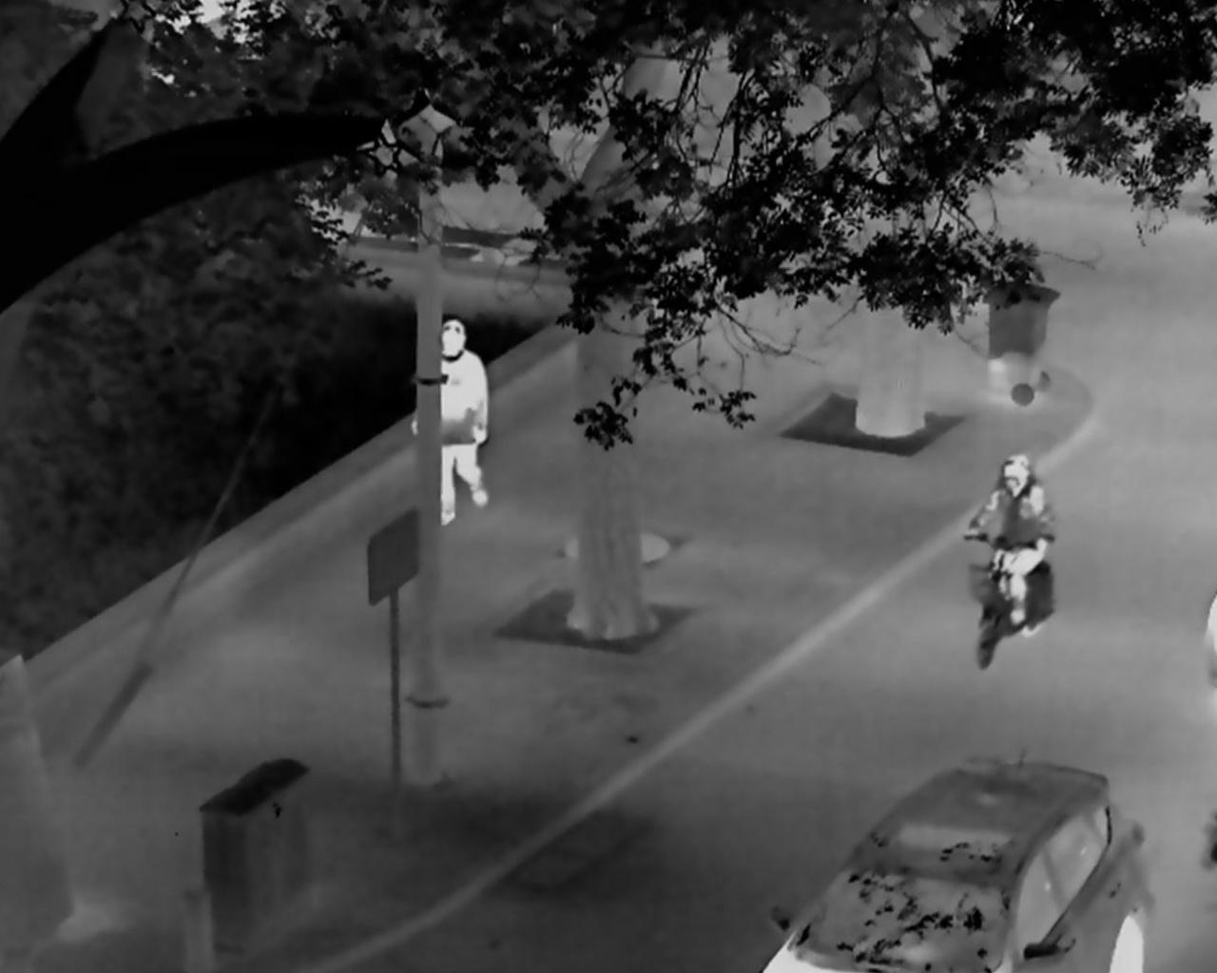person: (411, 314, 495, 525), (964, 454, 1057, 624)
